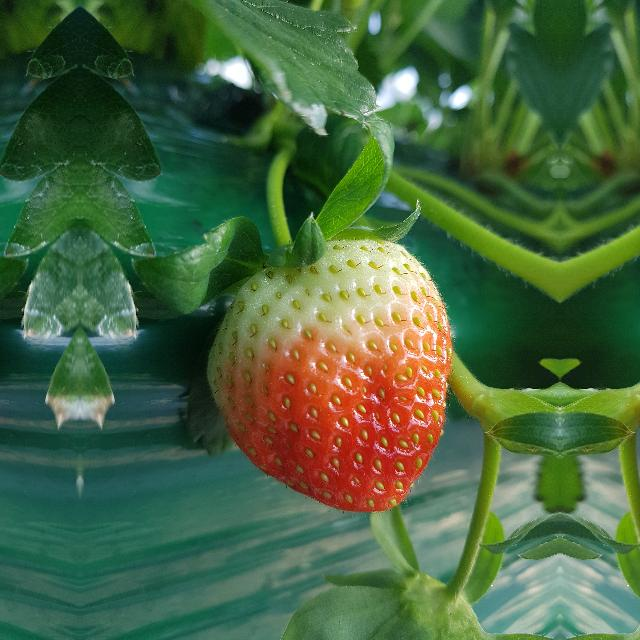Health_75: (206, 240, 452, 514)
